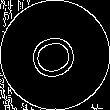O_E: (24, 27, 86, 83)
